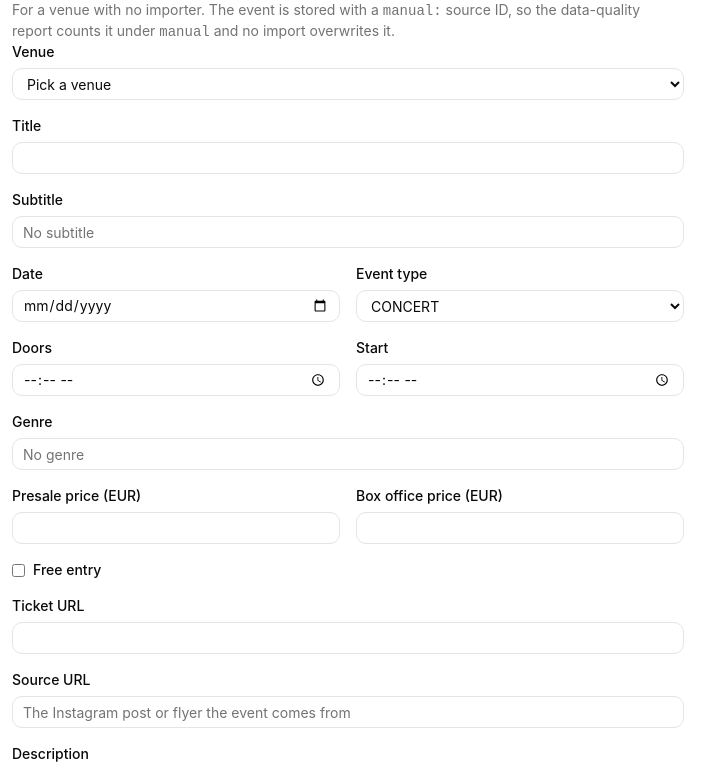
Scenario: NewEventView › shows the detail of a refused request next to the form
The width and height of the screenshot is (701, 768).
Select "Kulturhaus X" in the dropdown labelled "Venue" at (348, 84), box x1=12 y1=68 x2=684 y2=100
Type "Open Decks" into the field labelled "Title" at (348, 158), box x1=12 y1=142 x2=684 y2=174
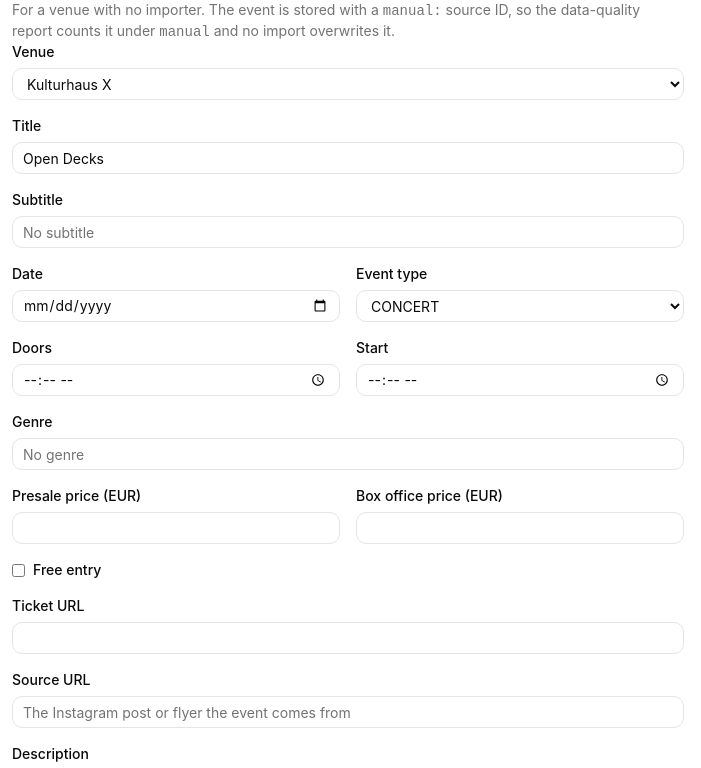
Type "2026-11-14" into the date field labelled "Date" at (176, 306), box x1=12 y1=290 x2=340 y2=322
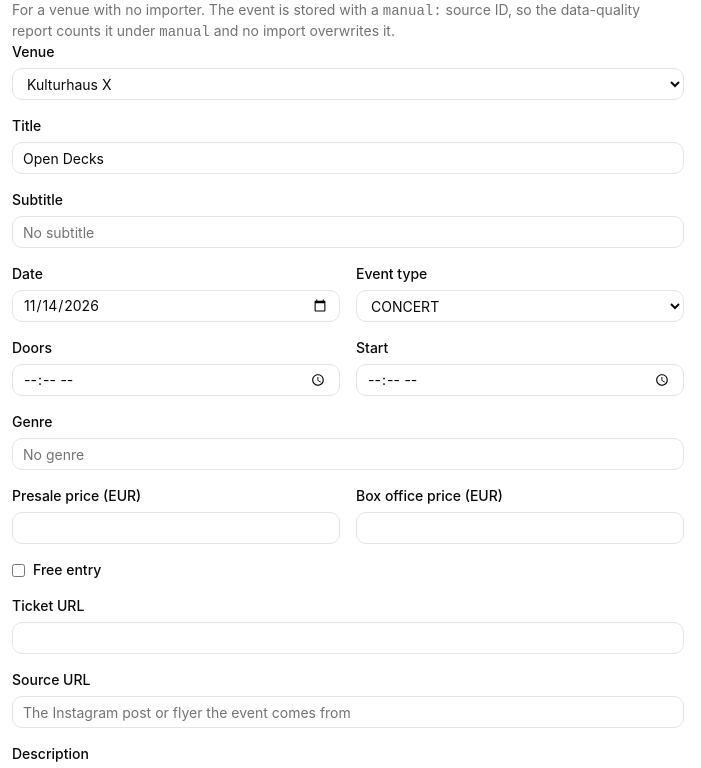
Type "21:00" into the time field labelled "Start" at (520, 380), box x1=356 y1=364 x2=684 y2=396
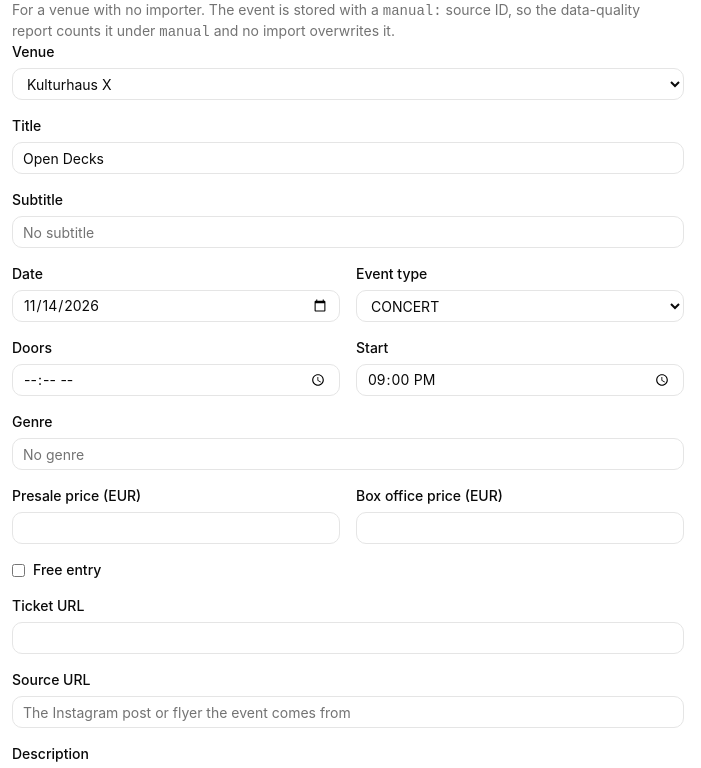
Type "House" into the field labelled "Genre" at (348, 454), box x1=12 y1=438 x2=684 y2=470
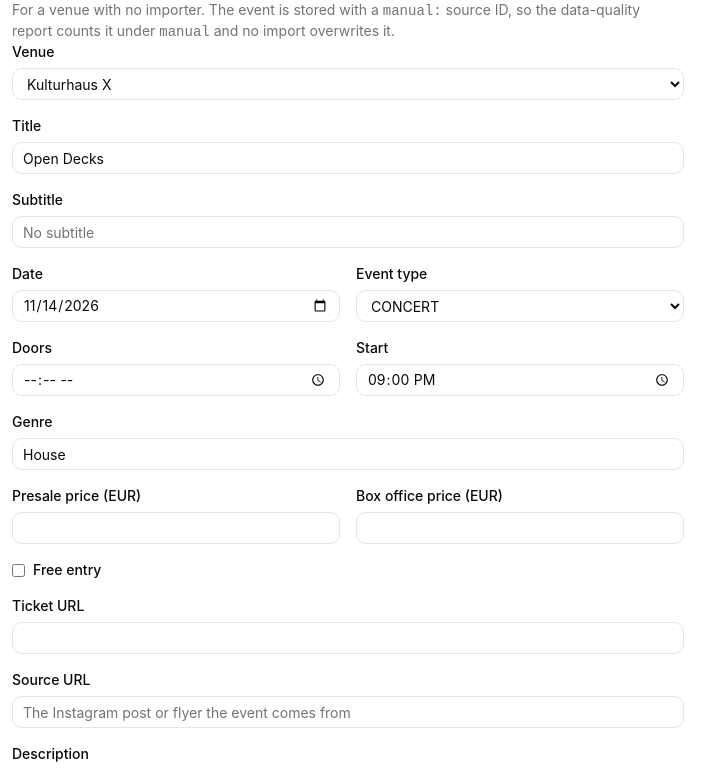
Type "5" into the field labelled "Presale price (EUR)" at (176, 528), box x1=12 y1=512 x2=340 y2=544
(page scrolled)
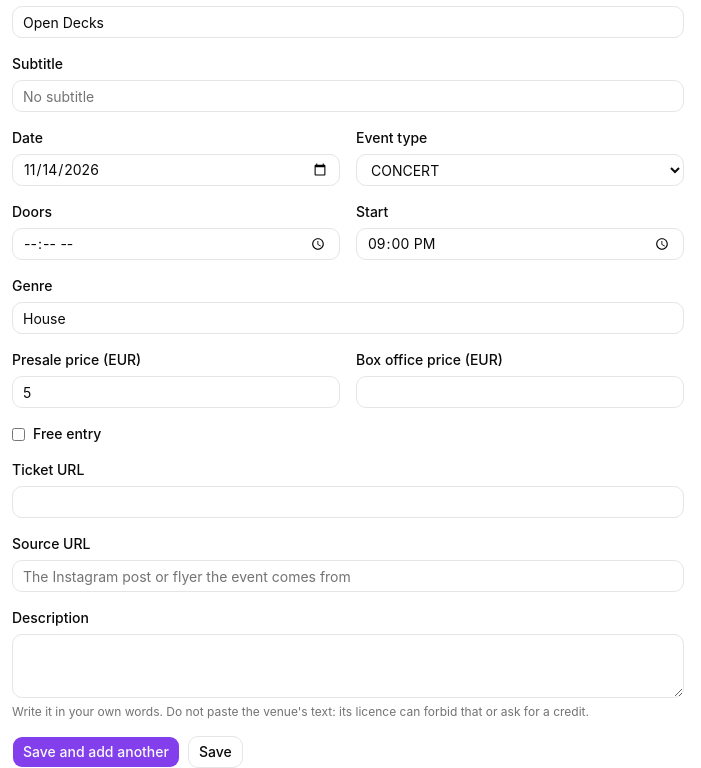
Click the button "Save" at (215, 752), box x1=188 y1=736 x2=243 y2=767
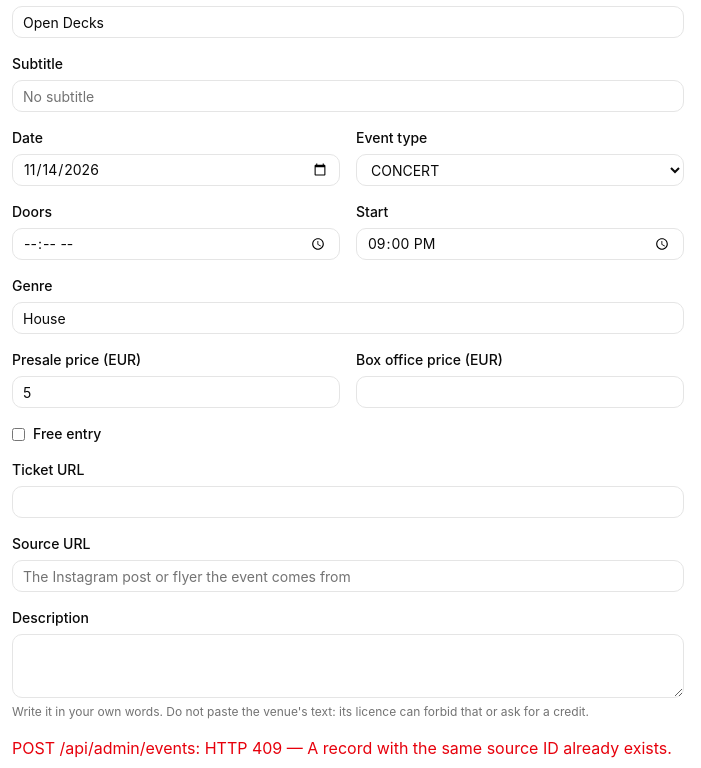
Expected: the message shows "HTTP 409 — A record with the same source ID already exists.", x1=12 y1=738 x2=672 y2=758
